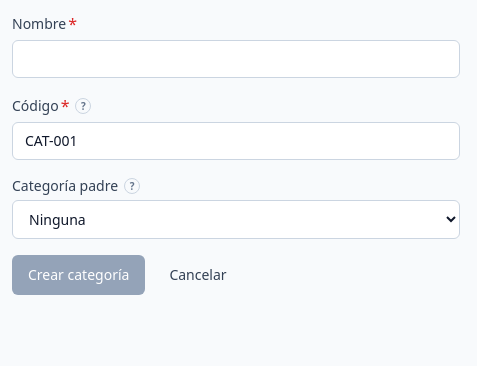
Test: CategoryForm › create: surfaces a 409 code conflict safely
The width and height of the screenshot is (477, 366).
Type "Tools" into the field labelled "Nombre" at [236, 59], box top-left (12, 40), bottom-right (460, 78)
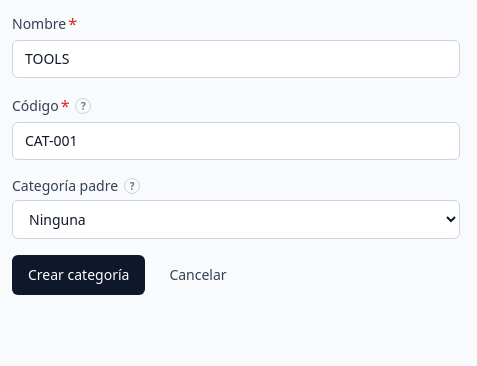
Click the button "Crear categoría" at [79, 275], box top-left (12, 255), bottom-right (145, 295)
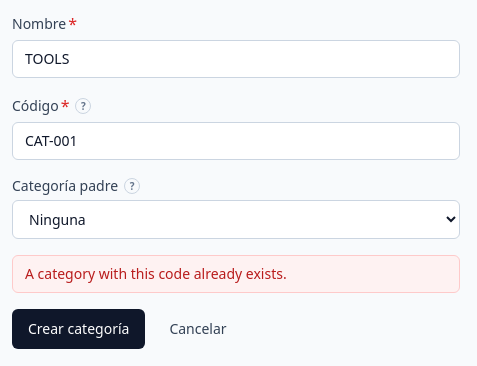
Now the text "A category with this code already exists." is shown, box top-left (25, 264), bottom-right (287, 283)
